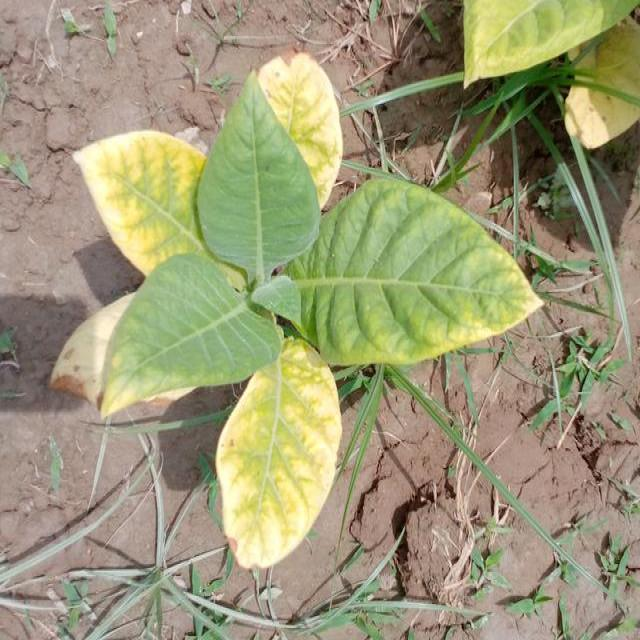crop: (91, 71, 510, 560), (462, 0, 640, 141)
